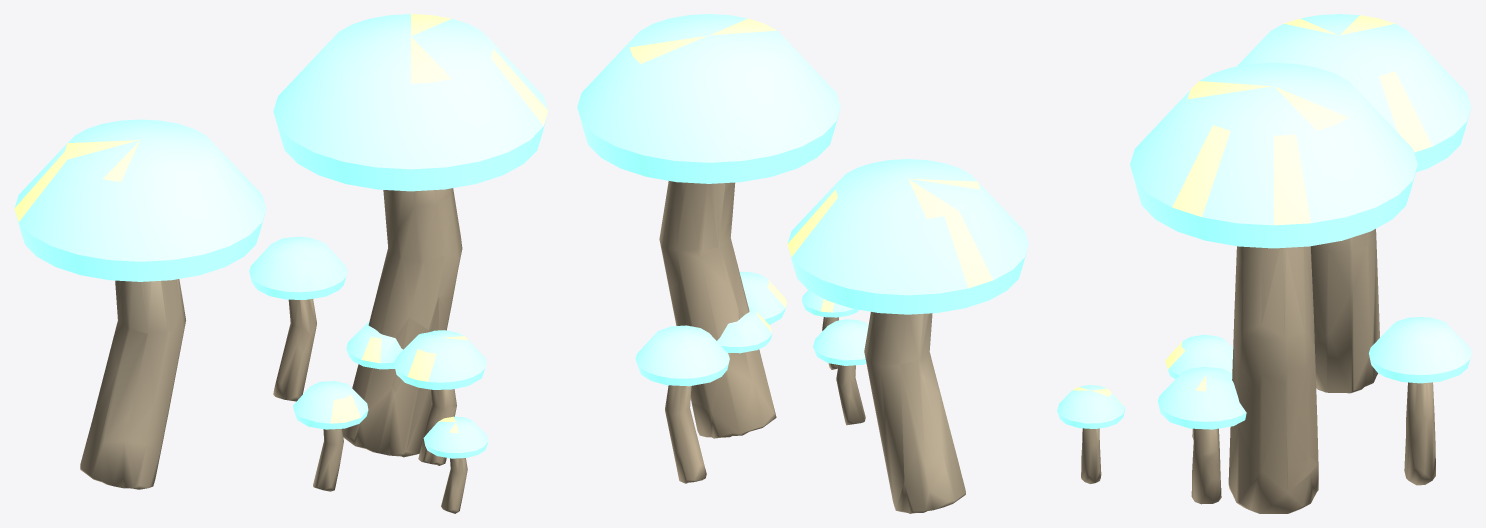
The model's file is mire_glowcap_lod1.glb.
The picture shows the model from 3 angles, left to right: view 1: azimuth 30°, elevation 25°; view 2: azimuth 150°, elevation 25°; view 3: azimuth 270°, elevation 25°; orthographic projection. The views are drawn at different scales.
Parts seen in each view (by area): view 1: mire_glowcap.001; view 2: mire_glowcap.001; view 3: mire_glowcap.001.
Part boxes in pixels (x1,y1,x2,y2): mire_glowcap.001: (14,14,548,513); mire_glowcap.001: (577,14,1028,513); mire_glowcap.001: (1057,14,1471,513).
Bounding box in the file's own units: 4.59 × 3.82 × 3.37.
